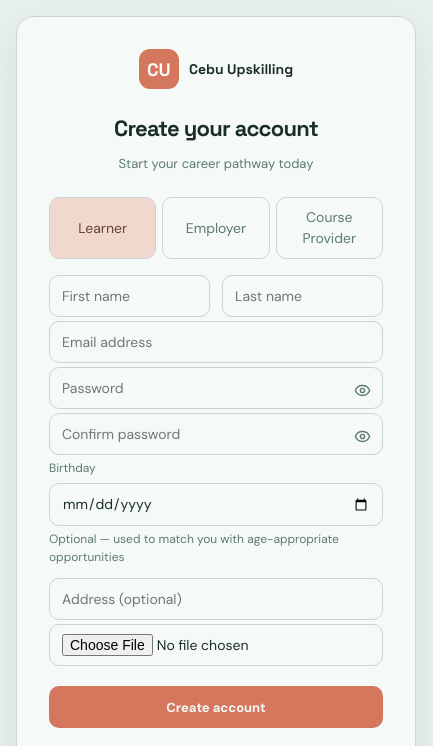
RegisterPage › shows company name field when Employer role is selected
Click the button "Employer".
click(216, 228)  # box [162, 197, 270, 259]
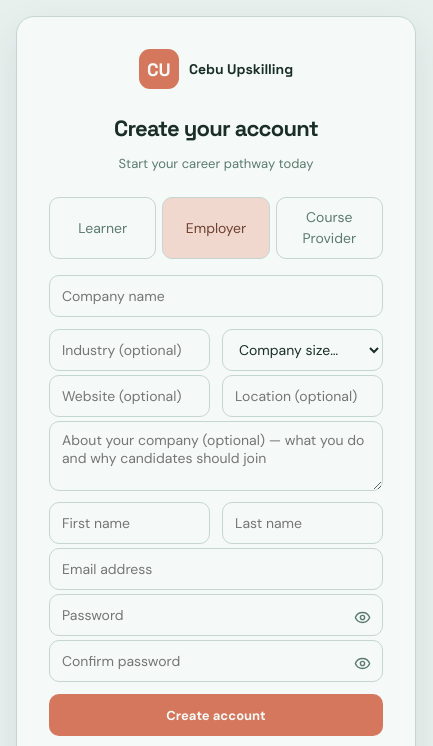
Now the field with placeholder "Company name" is shown, box [49, 275, 383, 317]
